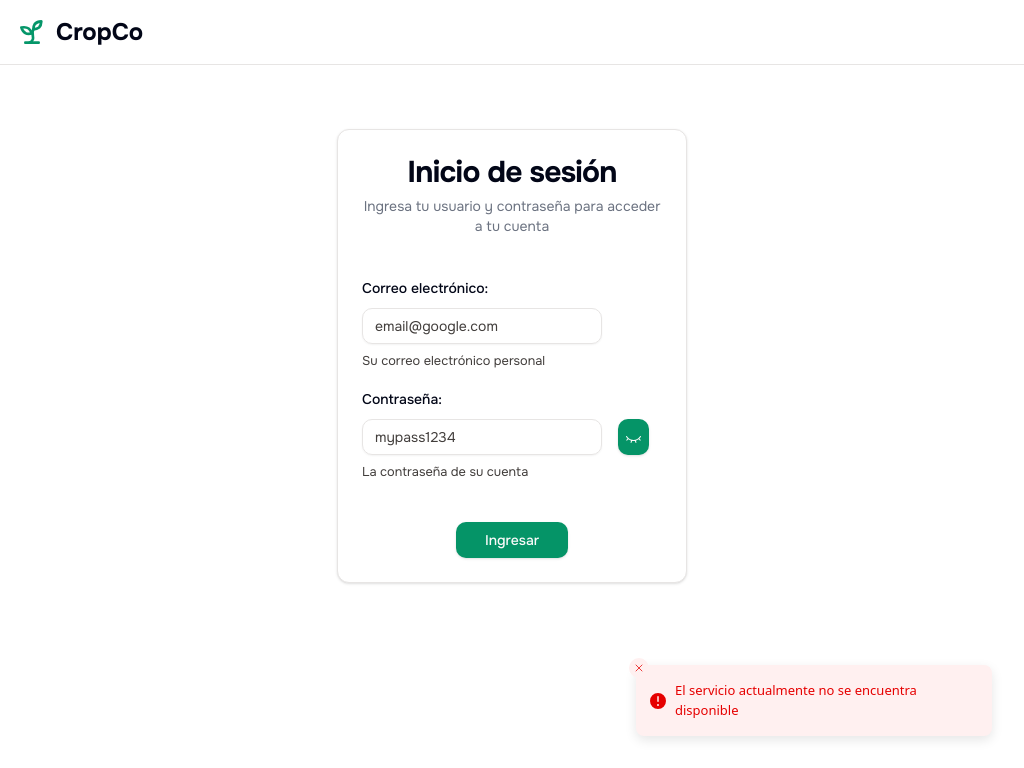
Test: Login de usuario › debería mostrar errores al intentar enviar el formulario vacío
Click the submit button.
click(512, 540)  # box [456, 522, 568, 558]
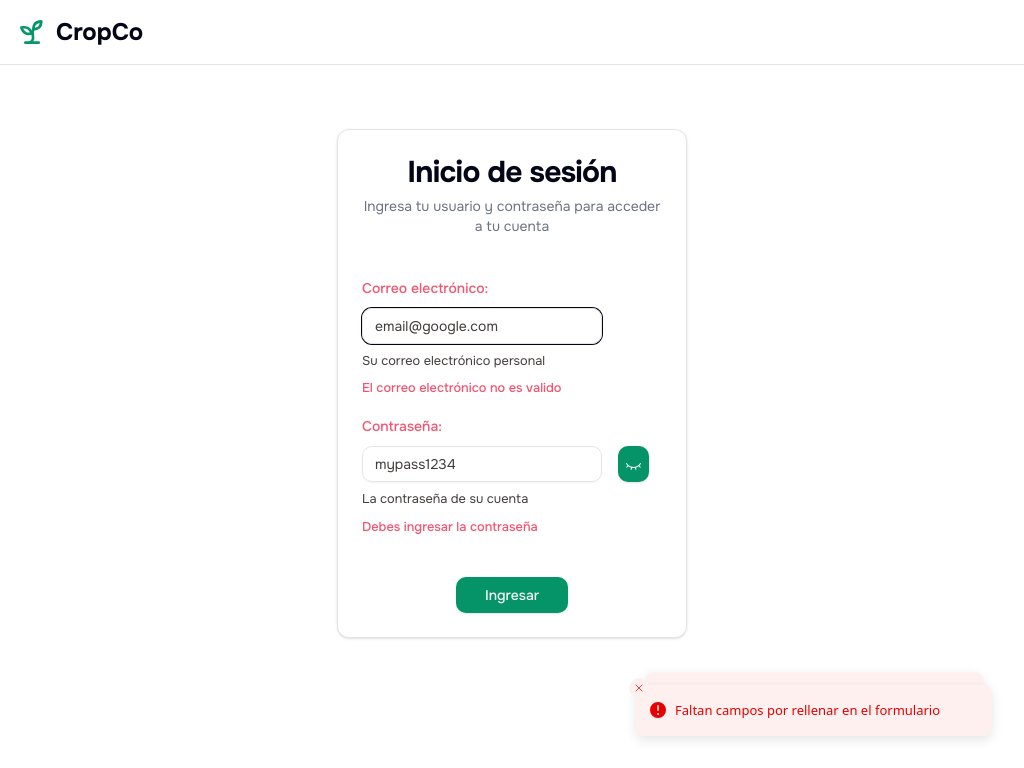
Check: the text "El correo electrónico no es valido" is shown, box [362, 380, 562, 396]
Check: the text "Debes ingresar la contraseña" is shown, box [362, 519, 538, 535]
Check: the text "Faltan campos por rellenar en el formulario" is shown, box [675, 700, 940, 720]
